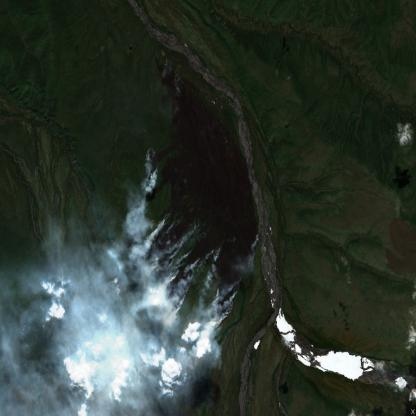fire: (134, 210, 242, 339), (138, 145, 161, 187), (162, 54, 184, 85)
